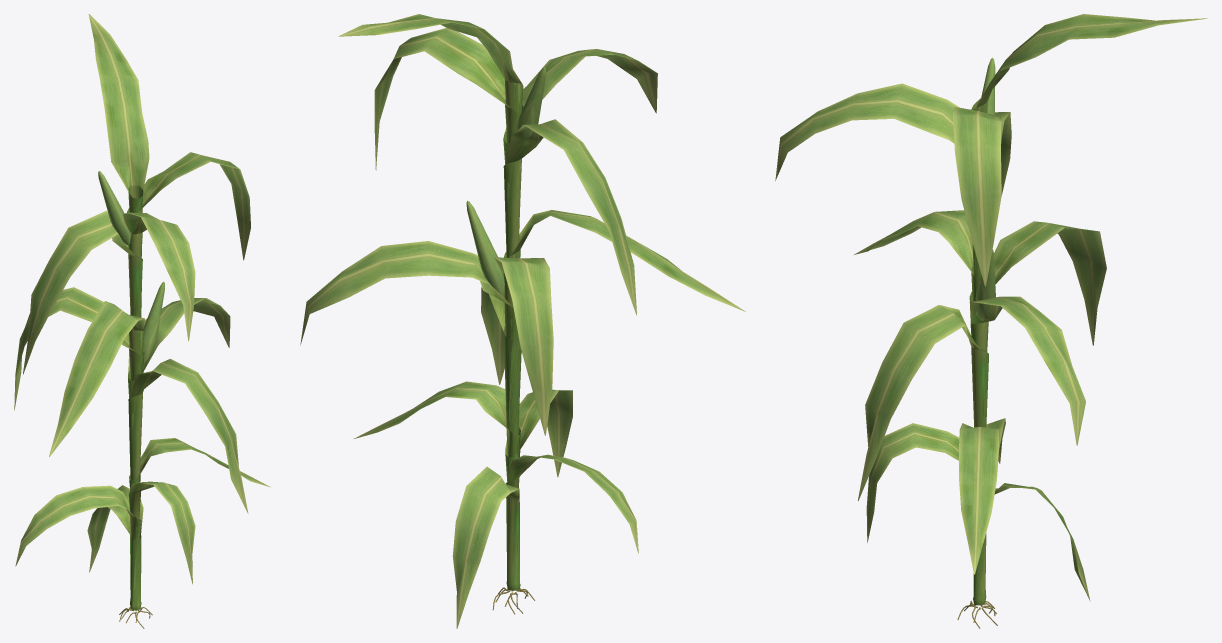
Rendered from grow4.fbx.
The picture shows the model from 3 angles, left to right: view 1: azimuth 30°, elevation 25°; view 2: azimuth 150°, elevation 25°; view 3: azimuth 270°, elevation 25°; orthographic projection. The views are drawn at different scales.
Parts seen in each view (by area): view 1: Plane.017, Plane.013, Plane.016, Plane.012, Plane.019, Plane.011, Plane.018, Plane.008, Plane.014, Plane.010, Plane.015, Plane.009 (+2 smaller); view 2: Plane.015, Plane.016, Plane.008, Plane.014, Plane.018, Plane.017, Plane.012, Plane.013, Plane.019, Plane.010, Plane.009, Plane.011 (+2 smaller); view 3: Plane.012, Plane.018, Plane.019, Plane.014, Plane.015, Plane.009, Plane.017, Plane.010, Plane.013, Plane.008, Plane.016, Cylinder.001.
Boxes of the visible parts, x1,y1,x2,y2 form: Plane.017: (88, 14, 149, 212); Plane.013: (49, 301, 144, 456); Plane.016: (23, 211, 142, 374); Plane.012: (128, 359, 248, 513); Plane.019: (123, 212, 195, 341); Plane.011: (15, 485, 141, 566); Plane.018: (127, 152, 250, 260); Plane.008: (87, 485, 143, 610); Plane.014: (14, 287, 144, 410); Plane.010: (128, 481, 195, 584); Plane.015: (128, 298, 230, 398); Plane.009: (129, 438, 270, 489); Plane.015: (300, 241, 518, 345); Plane.016: (503, 119, 636, 315); Plane.008: (452, 466, 520, 628); Plane.014: (494, 257, 553, 435); Plane.018: (374, 28, 523, 170); Plane.017: (338, 14, 523, 113); Plane.012: (481, 287, 521, 434); Plane.013: (504, 210, 745, 311); Plane.019: (503, 49, 657, 164); Plane.010: (505, 389, 572, 481); Plane.009: (354, 381, 520, 457); Plane.011: (505, 454, 638, 553); Plane.012: (858, 305, 988, 500); Plane.018: (953, 107, 1001, 286); Plane.019: (775, 83, 960, 180); Plane.014: (969, 221, 1106, 345); Plane.015: (969, 296, 1085, 445); Plane.009: (959, 423, 998, 574); Plane.017: (971, 14, 1207, 113); Plane.010: (866, 423, 959, 542); Plane.013: (854, 210, 979, 301); Plane.008: (973, 483, 1090, 605); Plane.016: (972, 112, 1011, 279); Cylinder.001: (975, 249, 995, 320).
Bounding box in the file's own units: 1.57 × 2.52 × 1.37.
2 materials, 2 textured.
